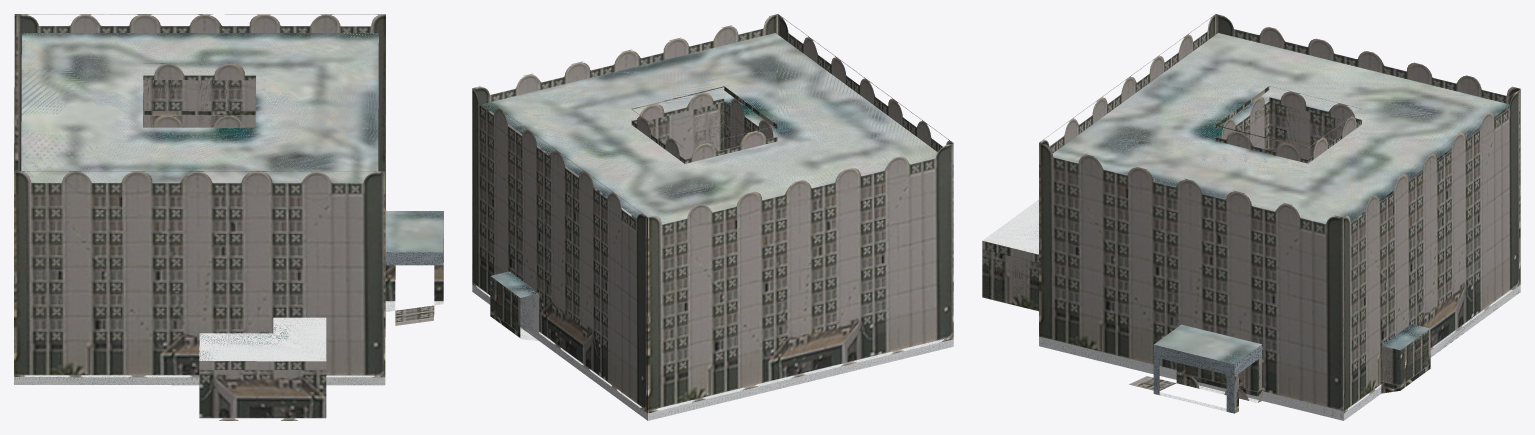
The model's file is BabAlJadeedHotel.fbx.
3 views of the same model, side by side, from view 1: azimuth 30°, elevation 25°; view 2: azimuth 150°, elevation 25°; view 3: azimuth 270°, elevation 25° (orthographic). The views are drawn at different scales.
Parts seen in each view (by area): view 1: Model; view 2: Model; view 3: Model.
Part boxes in pixels (box(x1,y1,x2,y2)): Model: box(14, 14, 443, 420); Model: box(472, 14, 953, 420); Model: box(982, 14, 1520, 420).
Bounding box in the file's own units: 51.29 × 23.96 × 57.28.
